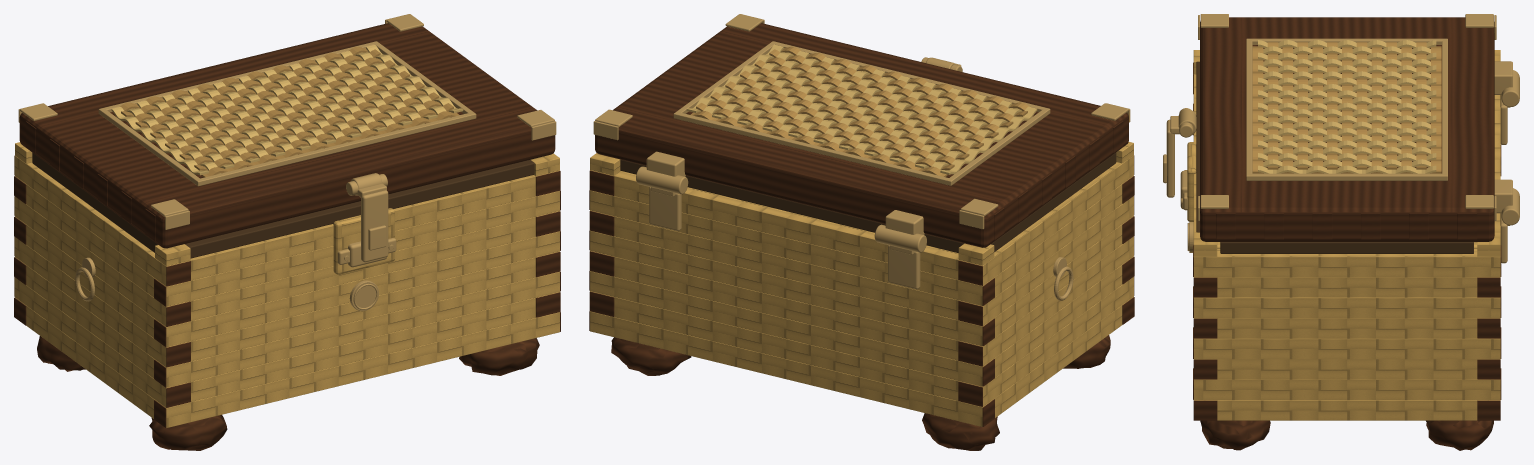
Rendered from belarus.glb.
3 renders of one model, left to right at view 1: azimuth 30°, elevation 25°; view 2: azimuth 150°, elevation 25°; view 3: azimuth 270°, elevation 25°, orthographic.
Visible parts, largest first — view 1: Lid / polished slab, Cedar / front course 0, Cedar / front course 2, Cedar / front course 4, Cedar / front course 1, Cedar / front course 3, Cedar / front course 6, Cedar / front course 5, Cedar / front course 7, Mineral seam / long, Cedar / side course 7, Cedar / side course 1 (+52 smaller); view 2: Lid / polished slab, Cedar / rear course 2, Cedar / rear course 4, Cedar / rear course 0, Cedar / rear course 7, Cedar / rear course 5, Cedar / rear course 1, Cedar / rear course 3, Cedar / rear course 6, Cedar / side course 7, Cedar / side course 1, Cedar / side course 3 (+56 smaller); view 3: Lid / polished slab, Cedar / side course 7.001, Cedar / side course 5.001, Cedar / side course 3.001, Cedar / side course 1.001, Cedar / side course 6.001, Cedar / side course 0.001, Cedar / side course 2.001, Cedar / side course 4.001, Mineral seam / side.001, Granite foot.002, Granite foot.003 (+68 smaller).
Boxes of the visible parts, x1,y1,x2,y2 form: Lid / polished slab: [19, 23, 555, 248]; Cedar / front course 0: [155, 312, 559, 428]; Cedar / front course 2: [155, 271, 559, 387]; Cedar / front course 4: [155, 231, 559, 347]; Cedar / front course 1: [190, 298, 535, 401]; Cedar / front course 3: [190, 257, 535, 361]; Cedar / front course 6: [155, 191, 559, 306]; Cedar / front course 5: [190, 217, 535, 320]; Cedar / front course 7: [190, 175, 535, 280]; Mineral seam / long: [185, 159, 534, 258]; Cedar / side course 7: [14, 156, 190, 286]; Cedar / side course 1: [14, 277, 190, 407]; Lid / polished slab: [595, 23, 1128, 247]; Cedar / rear course 2: [590, 271, 994, 386]; Cedar / rear course 4: [590, 230, 994, 346]; Cedar / rear course 0: [590, 311, 993, 426]; Cedar / rear course 7: [614, 171, 958, 279]; Cedar / rear course 5: [614, 216, 958, 320]; Cedar / rear course 1: [614, 297, 958, 400]; Cedar / rear course 3: [614, 256, 958, 360]; Cedar / rear course 6: [590, 190, 993, 305]; Cedar / side course 7: [959, 155, 1133, 285]; Cedar / side course 1: [959, 277, 1133, 406]; Cedar / side course 3: [959, 236, 1133, 366]; Lid / polished slab: [1200, 17, 1494, 241]; Cedar / side course 7.001: [1194, 249, 1500, 277]; Cedar / side course 5.001: [1194, 297, 1500, 318]; Cedar / side course 3.001: [1194, 338, 1500, 359]; Cedar / side course 1.001: [1194, 379, 1500, 399]; Cedar / side course 6.001: [1217, 277, 1477, 297]; Cedar / side course 0.001: [1217, 400, 1477, 420]; Cedar / side course 2.001: [1217, 359, 1477, 379]; Cedar / side course 4.001: [1217, 318, 1477, 338]; Mineral seam / side.001: [1220, 242, 1473, 253]; Granite foot.002: [1200, 420, 1270, 450]; Granite foot.003: [1426, 420, 1493, 450].
Bounding box in the file's own units: 3.79 × 2.36 × 2.88.
6 materials, 2 textured.
